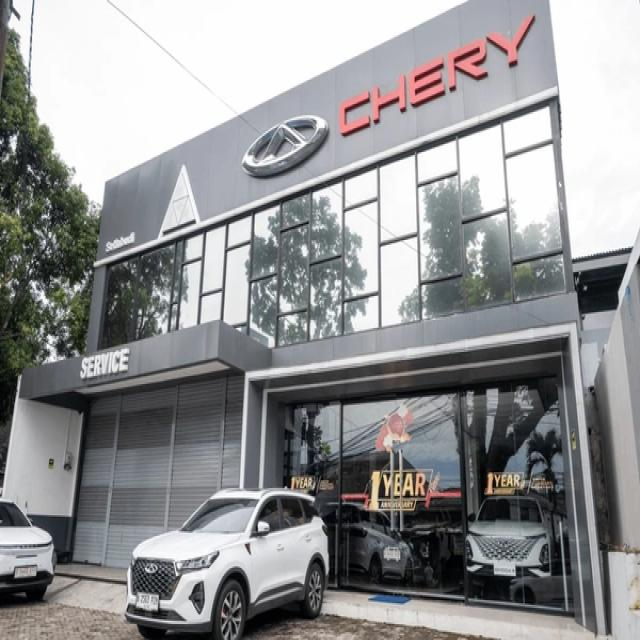cherry: (338, 11, 545, 138), (239, 114, 329, 172)
